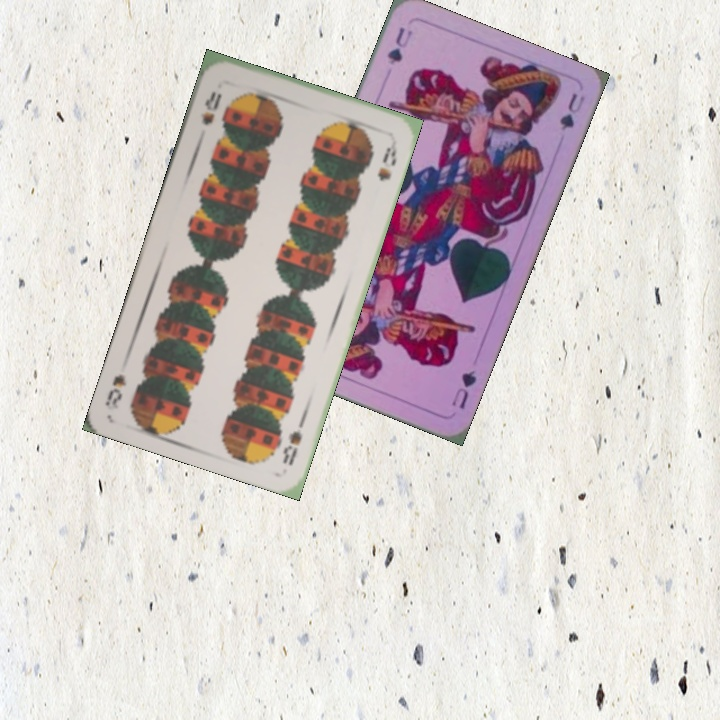GU: (447, 366, 480, 412), (383, 23, 415, 67)
S8: (278, 412, 309, 469), (197, 87, 224, 128)
